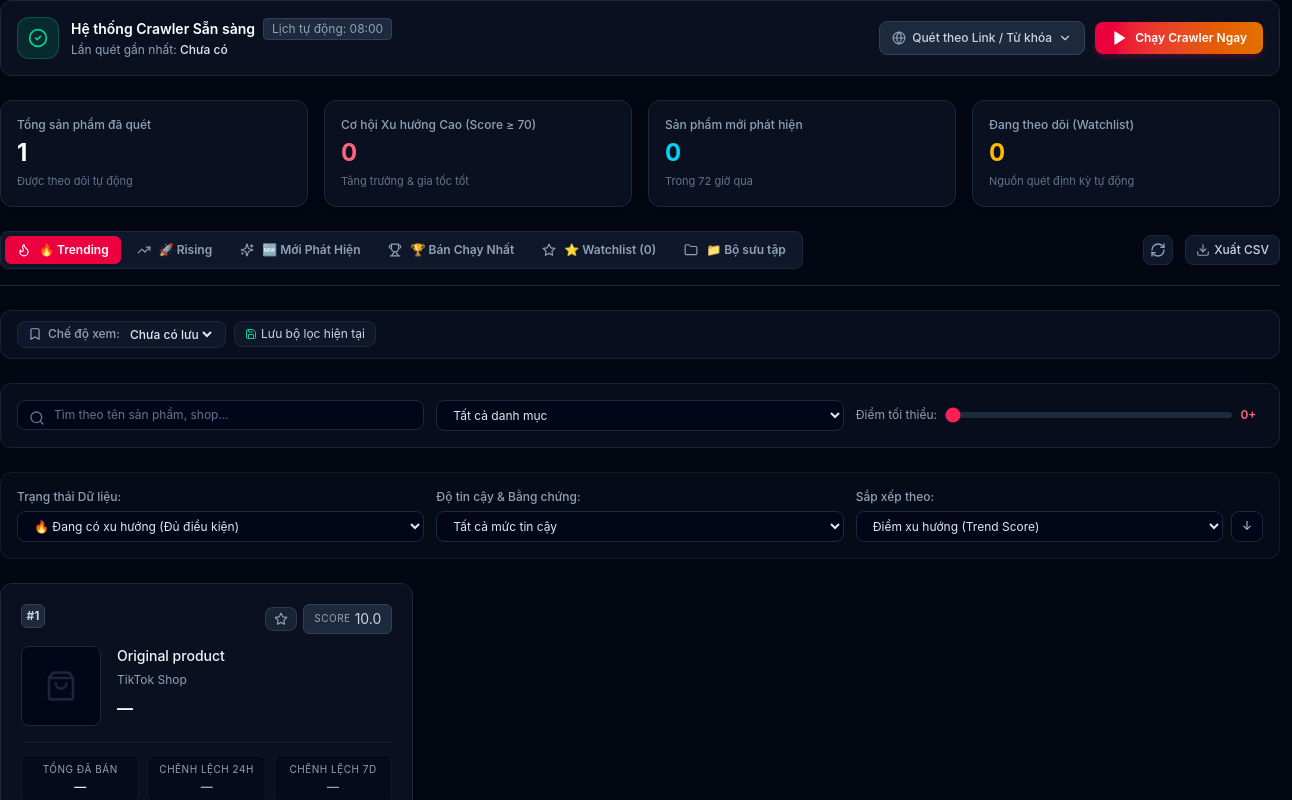
it: production UI recovery › clears previous results and displays retry on tab fetch failure
Expected: the link "Original product" is shown, [117,646,225,664]
Click the button "🚀 Rising": (174, 250) [125,236,224,264]
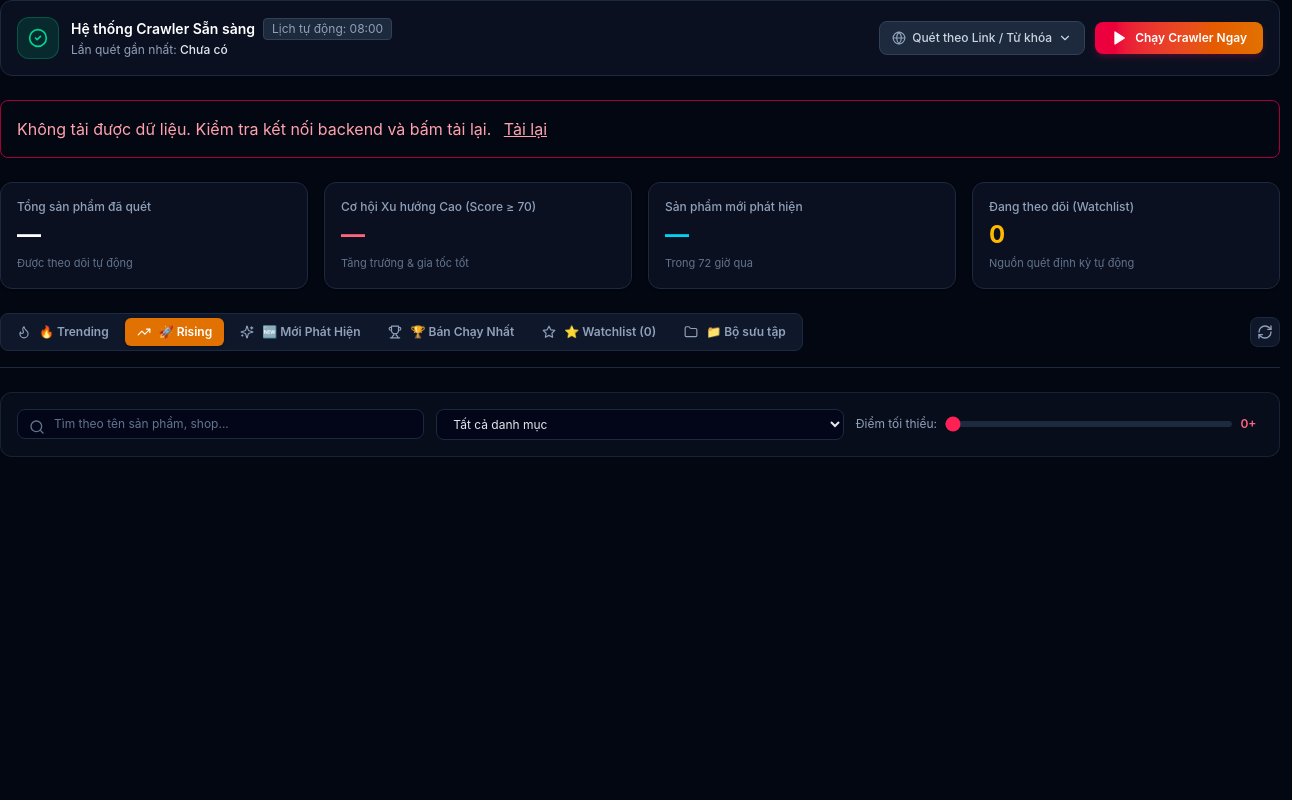
Result: the message shows "Không tải được dữ liệu" at [17,119,491,139]
Result: the link "Original product" is gone
Result: the button "Tải lại" is shown at [504,117,547,141]
